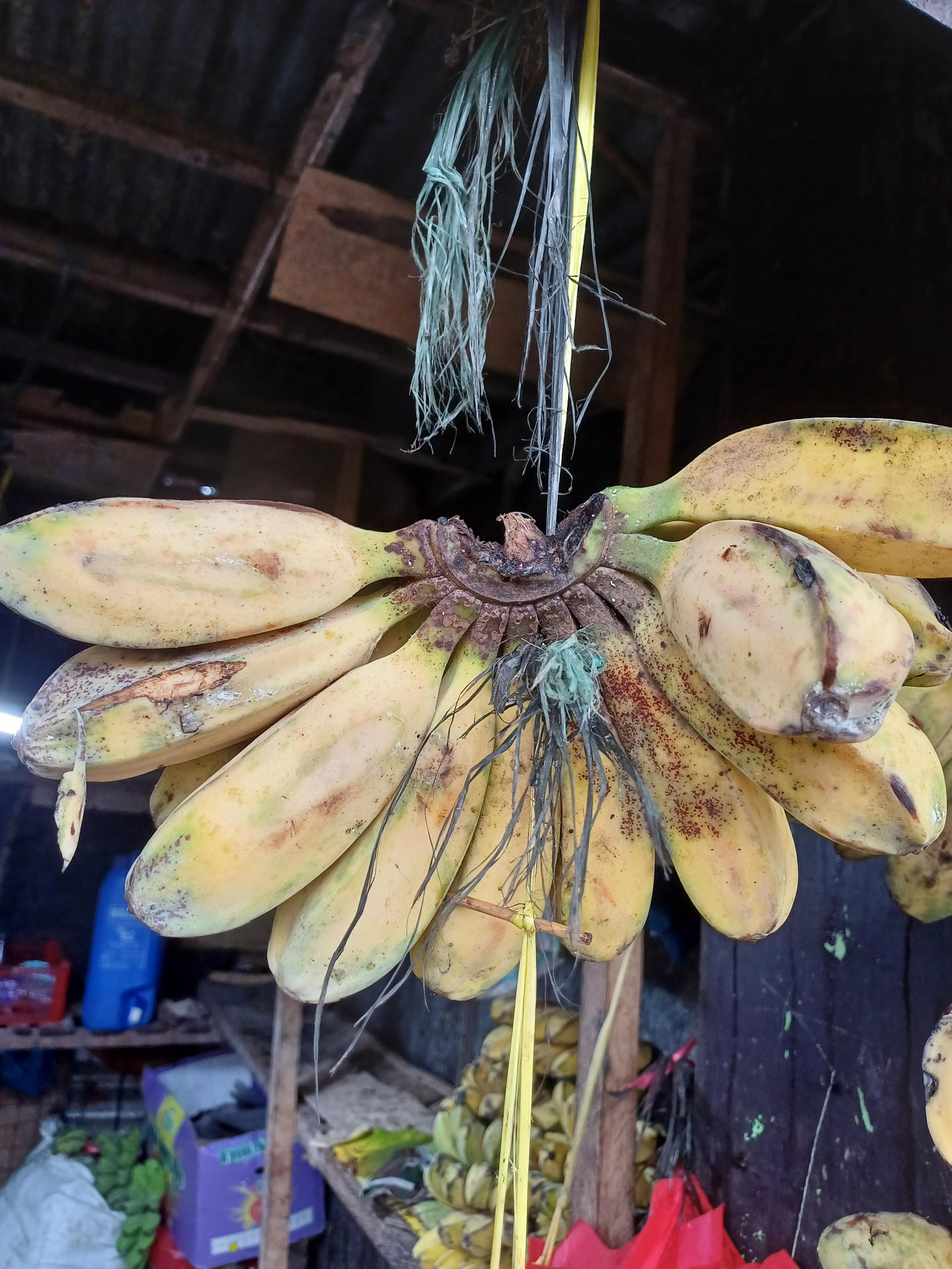underripe: (0, 420, 952, 1004)
